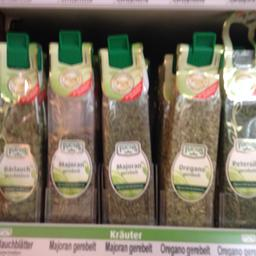spices: (162, 42, 222, 225), (100, 40, 154, 223), (46, 40, 97, 222), (0, 41, 43, 218), (222, 42, 255, 228)
